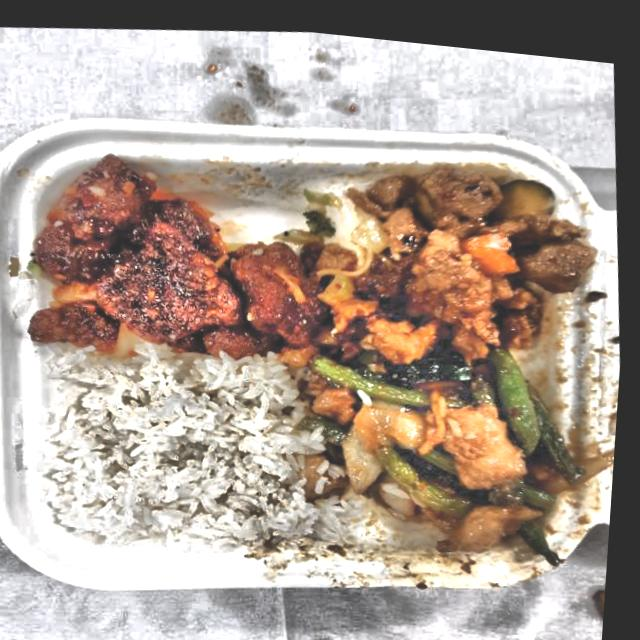Food: (304, 122, 620, 389), (11, 132, 322, 382), (41, 330, 329, 568), (316, 335, 605, 553)
